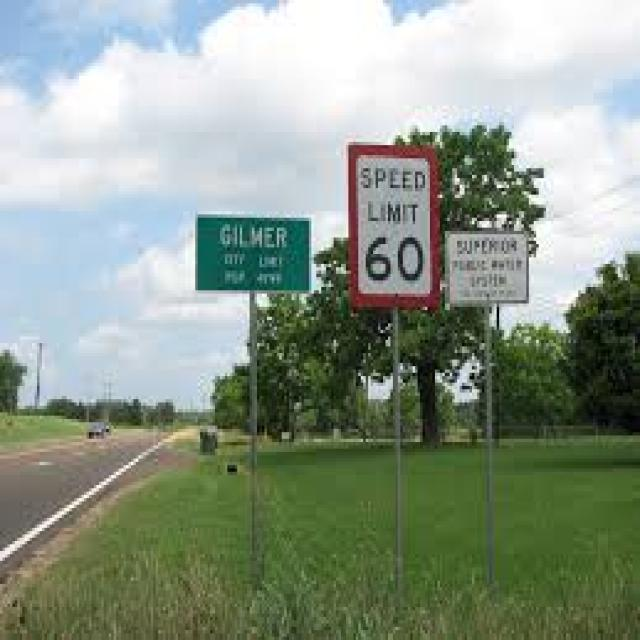speedLimit60: (354, 147, 434, 295)
